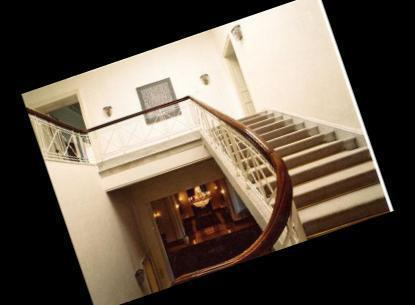Escaleras: (183, 48, 389, 263)
